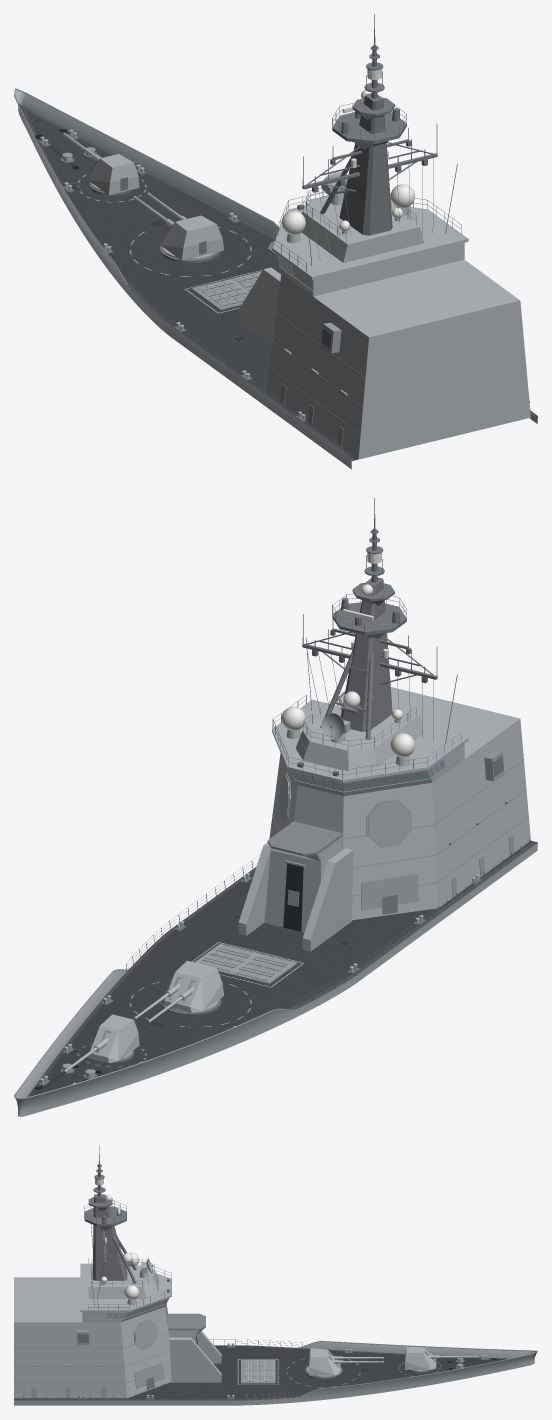
Rendered from destroyer_v15.glb.
3 views of the same model, one above another, from view 1: azimuth 30°, elevation 25°; view 2: azimuth 150°, elevation 25°; view 3: azimuth 270°, elevation 25° (orthographic). The views are drawn at different scales.
Visible parts, largest first — view 1: Deckhouse_Hull_Grey, Deck_Painted, Bridge_Hull_Grey, Mast_Mast_Dark, Hull_Hull_Grey_2S_smooth, DeckGunTurretGeo_Hull_Grey, FrontGunTurretGeo_Hull_Grey, Deckhouse_Seam_Grey, Radomes_Radome_White_smooth, Railings_Mast_Dark, Hull_Seam_Grey, Lifelines_Mast_Dark; view 2: Deckhouse_Hull_Grey, Deck_Painted, Bridge_Hull_Grey, Mast_Mast_Dark, Hull_Hull_Grey_2S_smooth, Deckhouse_Seam_Grey, DeckGunTurretGeo_Hull_Grey, SPY_Panels_SPY_Panel, FrontGunTurretGeo_Hull_Grey, Deckhouse_Deck_Grey, Railings_Mast_Dark, Radomes_Radome_White_smooth (+4 smaller); view 3: Deckhouse_Hull_Grey, Deck_Painted, Hull_Hull_Grey_2S_smooth, Bridge_Hull_Grey, Mast_Mast_Dark, Deckhouse_Seam_Grey, DeckGunTurretGeo_Hull_Grey, Hull_Seam_Grey, FrontGunTurretGeo_Hull_Grey, Deckhouse_Deck_Grey, Railings_Mast_Dark, Lifelines_Mast_Dark (+3 smaller).
Boxes of the visible parts, box(x1,y1,x2,y2) form: Deckhouse_Hull_Grey: box(238, 250, 530, 459); Deck_Painted: box(18, 103, 537, 461); Bridge_Hull_Grey: box(272, 195, 468, 296); Mast_Mast_Dark: box(302, 14, 457, 265); Hull_Hull_Grey_2S_smooth: box(15, 90, 537, 469); DeckGunTurretGeo_Hull_Grey: box(160, 215, 223, 260); FrontGunTurretGeo_Hull_Grey: box(87, 154, 139, 195); Deckhouse_Seam_Grey: box(268, 312, 528, 446); Radomes_Radome_White_smooth: box(281, 89, 414, 234); Railings_Mast_Dark: box(272, 102, 461, 271); Hull_Seam_Grey: box(14, 88, 279, 285); Lifelines_Mast_Dark: box(126, 276, 529, 454); Deckhouse_Hull_Grey: box(238, 687, 530, 951); Deck_Painted: box(27, 840, 537, 1097); Bridge_Hull_Grey: box(272, 699, 468, 796); Mast_Mast_Dark: box(302, 498, 457, 743); Hull_Hull_Grey_2S_smooth: box(15, 843, 537, 1116); Deckhouse_Seam_Grey: box(272, 750, 528, 910); DeckGunTurretGeo_Hull_Grey: box(161, 960, 223, 1012); SPY_Panels_SPY_Panel: box(279, 775, 409, 845); FrontGunTurretGeo_Hull_Grey: box(88, 1014, 139, 1063); Deckhouse_Deck_Grey: box(267, 821, 343, 855); Railings_Mast_Dark: box(272, 593, 461, 779); Radomes_Radome_White_smooth: box(281, 584, 414, 757); Deckhouse_Hull_Grey: box(14, 1277, 221, 1398); Deck_Painted: box(14, 1345, 508, 1400); Hull_Hull_Grey_2S_smooth: box(14, 1341, 536, 1405); Bridge_Hull_Grey: box(80, 1263, 171, 1322); Mast_Mast_Dark: box(84, 1145, 136, 1306); Deckhouse_Seam_Grey: box(14, 1330, 197, 1398); DeckGunTurretGeo_Hull_Grey: box(309, 1348, 340, 1375); Hull_Seam_Grey: box(301, 1340, 537, 1396); FrontGunTurretGeo_Hull_Grey: box(405, 1346, 436, 1369); Deckhouse_Deck_Grey: box(168, 1313, 205, 1329); Railings_Mast_Dark: box(84, 1200, 171, 1309); Lifelines_Mast_Dark: box(23, 1339, 302, 1399).
Size of the model in its own units: 21.25 by 41.4 by 84.53.
10 materials, 1 textured.
